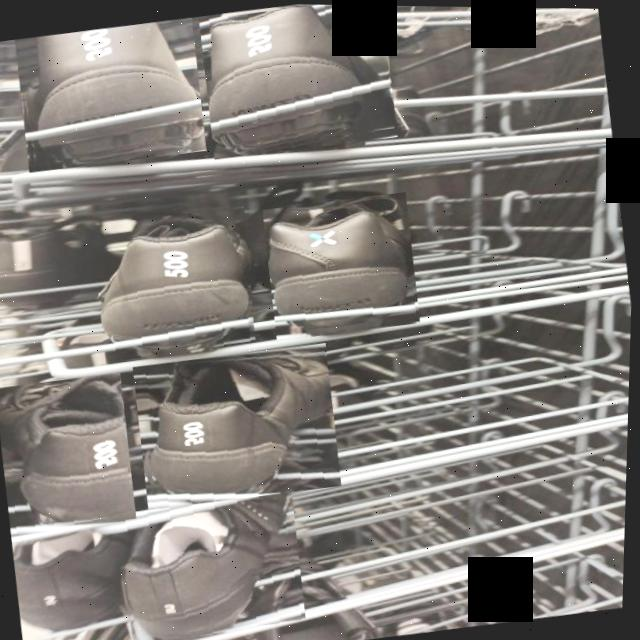shoe: (132, 340, 348, 512), (195, 2, 401, 161), (12, 15, 211, 174), (113, 488, 314, 640), (89, 204, 265, 366), (261, 189, 425, 342), (0, 371, 143, 537)
